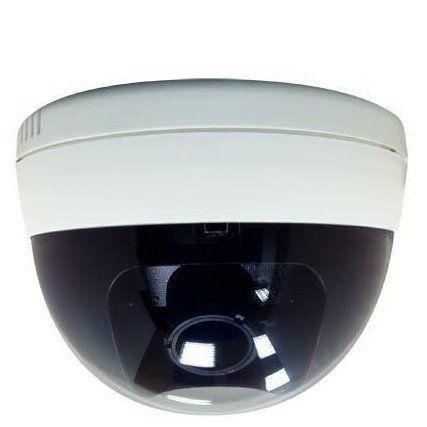CCTV: (16, 79, 408, 415)
